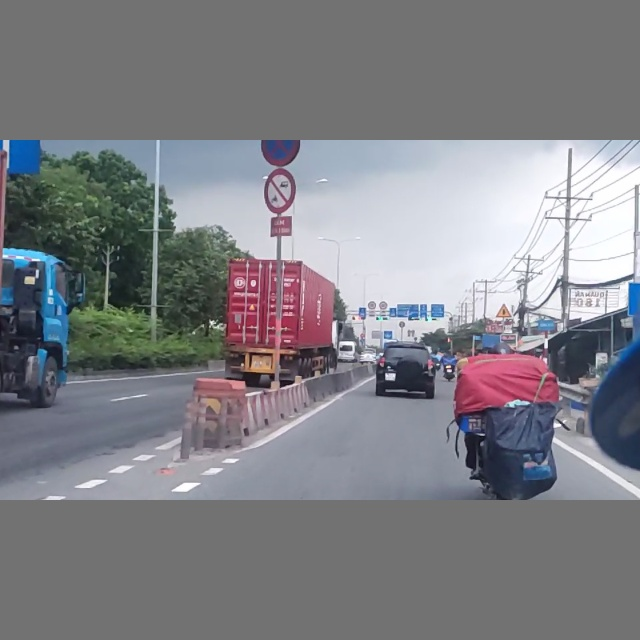P.111: (262, 168, 296, 213)
P.130: (260, 141, 301, 165)
W.207: (495, 303, 513, 319)
